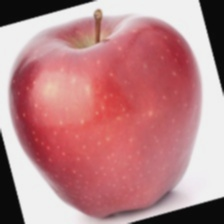apple: (23, 10, 167, 207)
